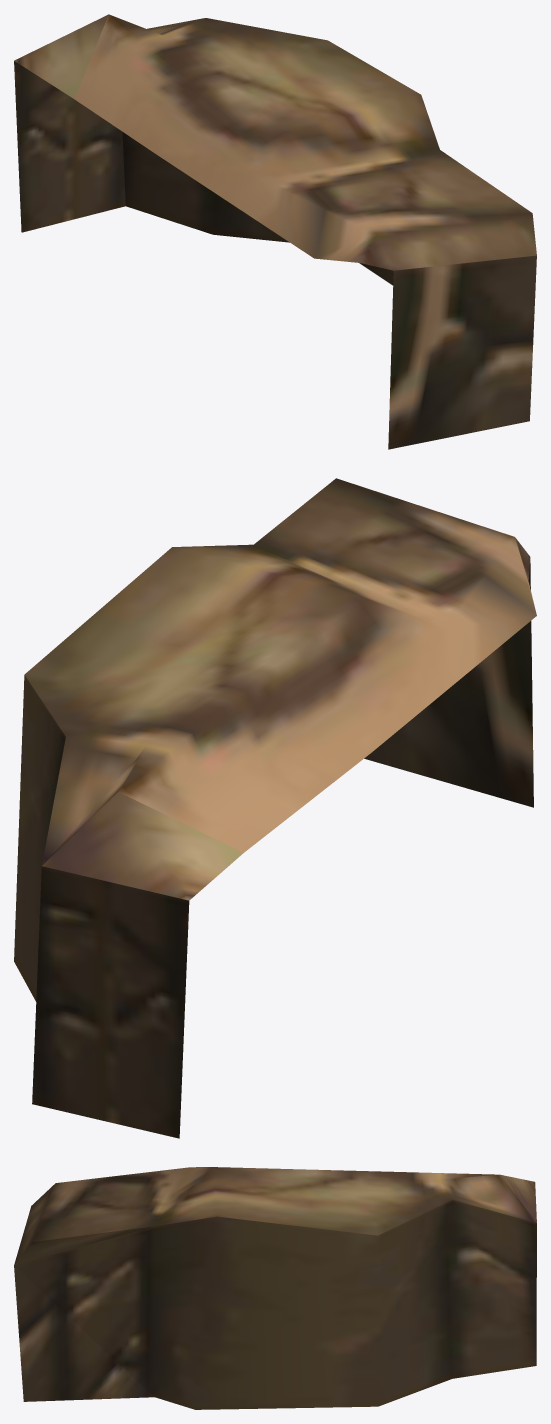
The model's file is h5_bianyuan_b.FBX.
3 renders of one model, top to bottom at view 1: azimuth 30°, elevation 25°; view 2: azimuth 150°, elevation 25°; view 3: azimuth 270°, elevation 25°, orthographic. The views are drawn at different scales.
Visible parts, largest first — view 1: h5_bianyuan_b; view 2: h5_bianyuan_b; view 3: h5_bianyuan_b.
Part boxes in pixels (box(x1,y1,x2,y2)): h5_bianyuan_b: box(14, 14, 536, 449); h5_bianyuan_b: box(14, 478, 536, 1138); h5_bianyuan_b: box(14, 1167, 536, 1409).
Size of the model in its own units: 3.71 by 3.59 by 8.97.
